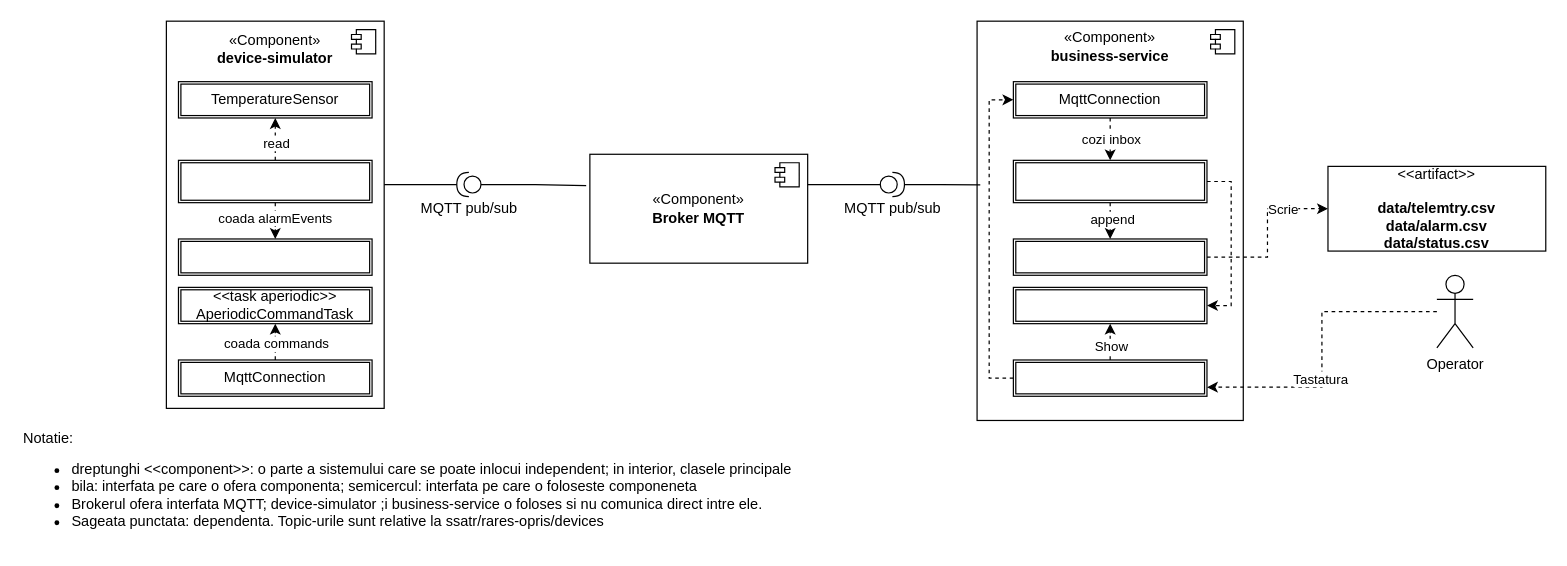
The diagram is 1567 pixels wide and 566 high, and some of its shapes have lost their labels. Here are the shapes that lost their labels. From the top down, the centre of each, then its label:
At point (274, 181): "<<task periodic>> PeriodicTelemtryTask".
At point (1109, 181): "MessageProcessor x3 telemtry/alarm/status".
At point (274, 256): "<<task sporadic>> SporadicAlarmTask".
At point (1109, 256): "CsvStorage".
At point (1109, 305): "Dashboard".
At point (1109, 377): "CommandConsole".
